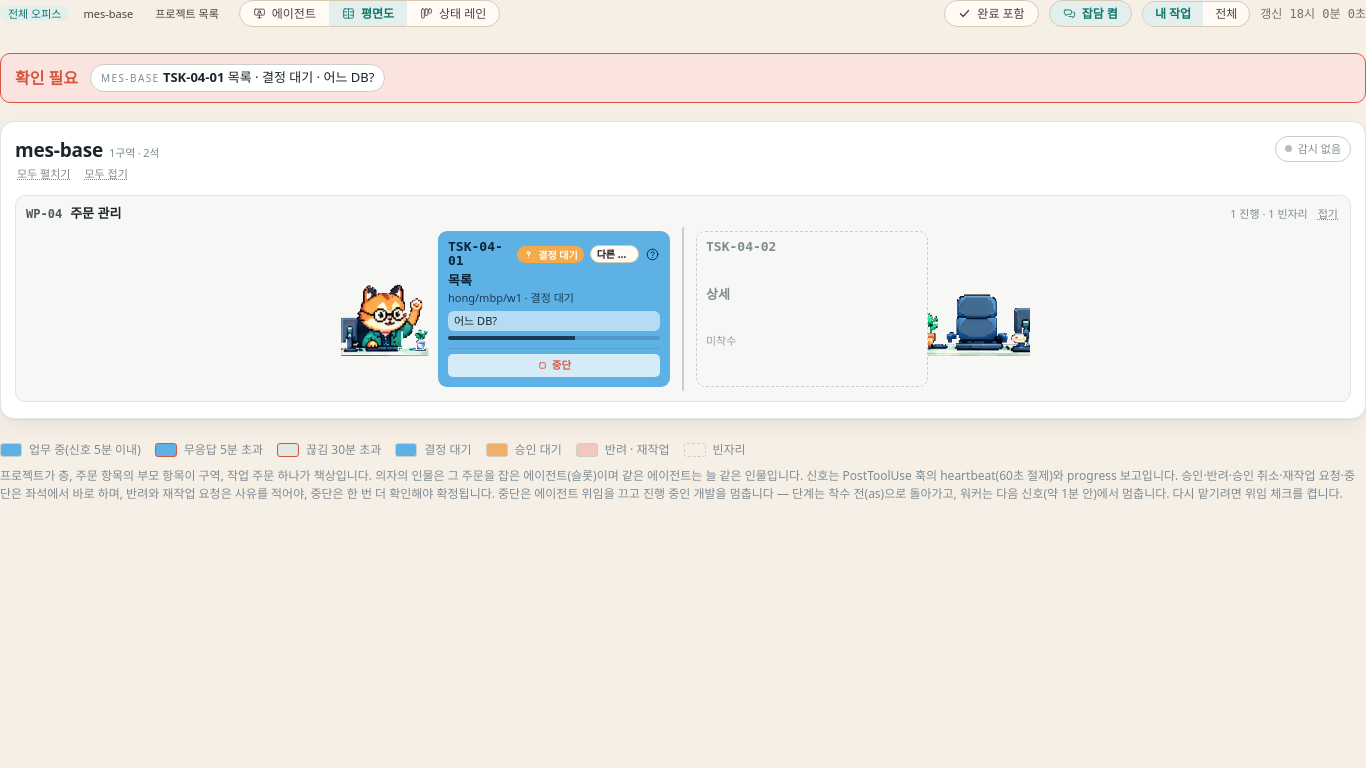
Scenario: SeatmapView › 확인 필요 띠를 누르면 그 좌석의 상세 팝업이 열린다
Click the button "mes-base TSK-04-01 목록 · 결정 대기 · 어느 DB?".
click(238, 78)  # box [90,64,385,92]
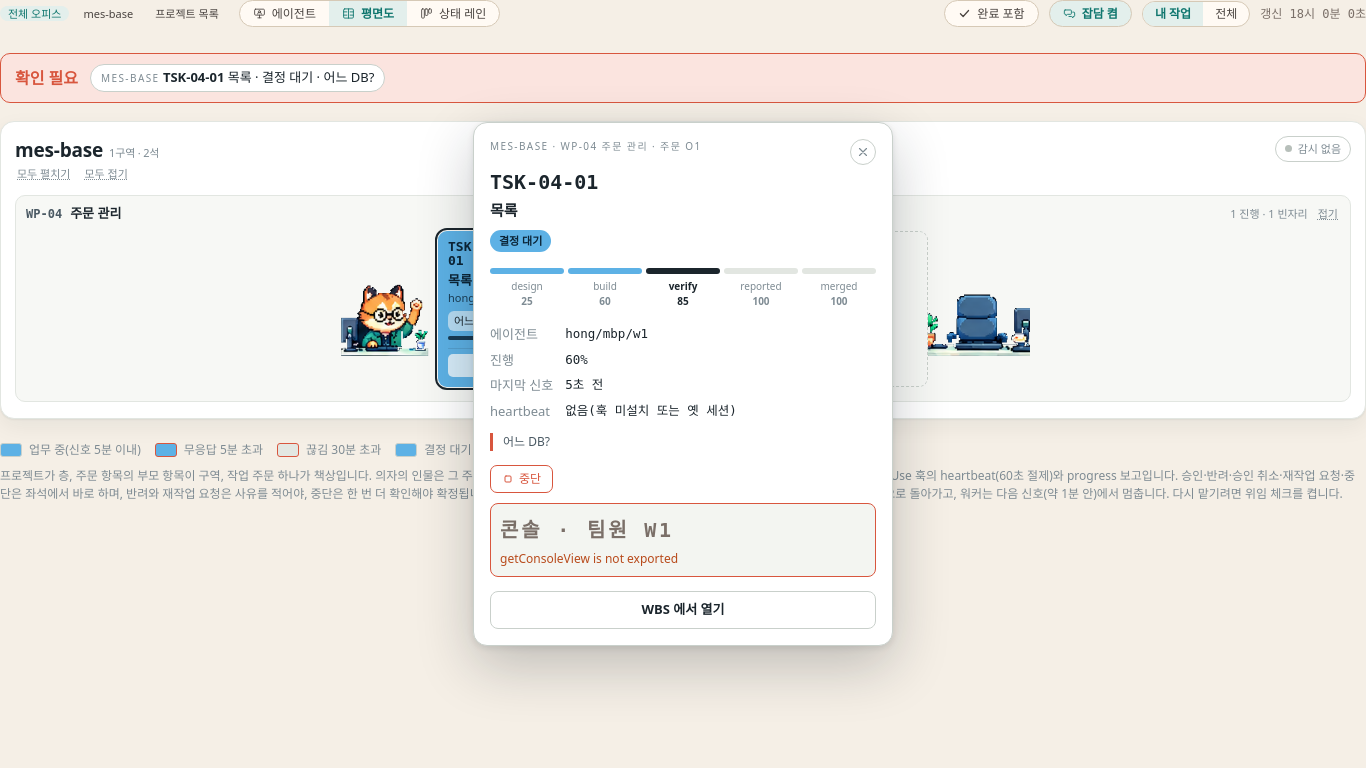
Expected: the element that starts with "mes-base" shows "어느 DB?", [503,433,550,450]
Expected: the dialog shows "TSK-04-01", [490,170,598,194]
